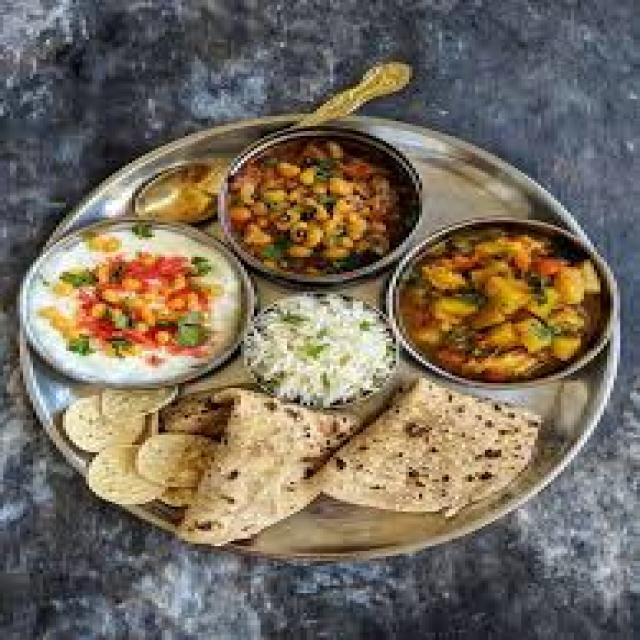papad: (300, 373, 556, 519)
rice: (239, 284, 404, 408)
roti: (293, 371, 556, 523)
veg-fry: (10, 225, 255, 390), (383, 226, 619, 390)
